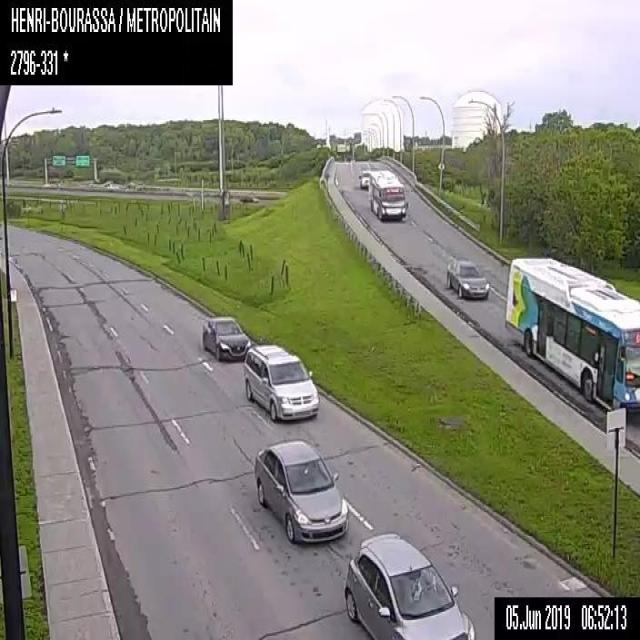bus: (503, 255, 639, 414), (369, 169, 407, 220)
vehicle: (346, 532, 474, 638), (253, 437, 349, 543), (244, 343, 318, 422), (201, 316, 251, 362), (445, 254, 489, 300), (358, 169, 369, 189)
